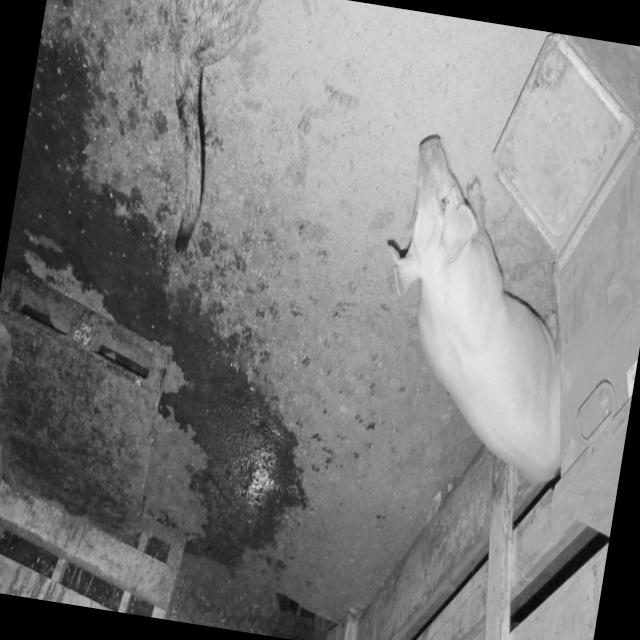pig: (387, 134, 562, 484)
